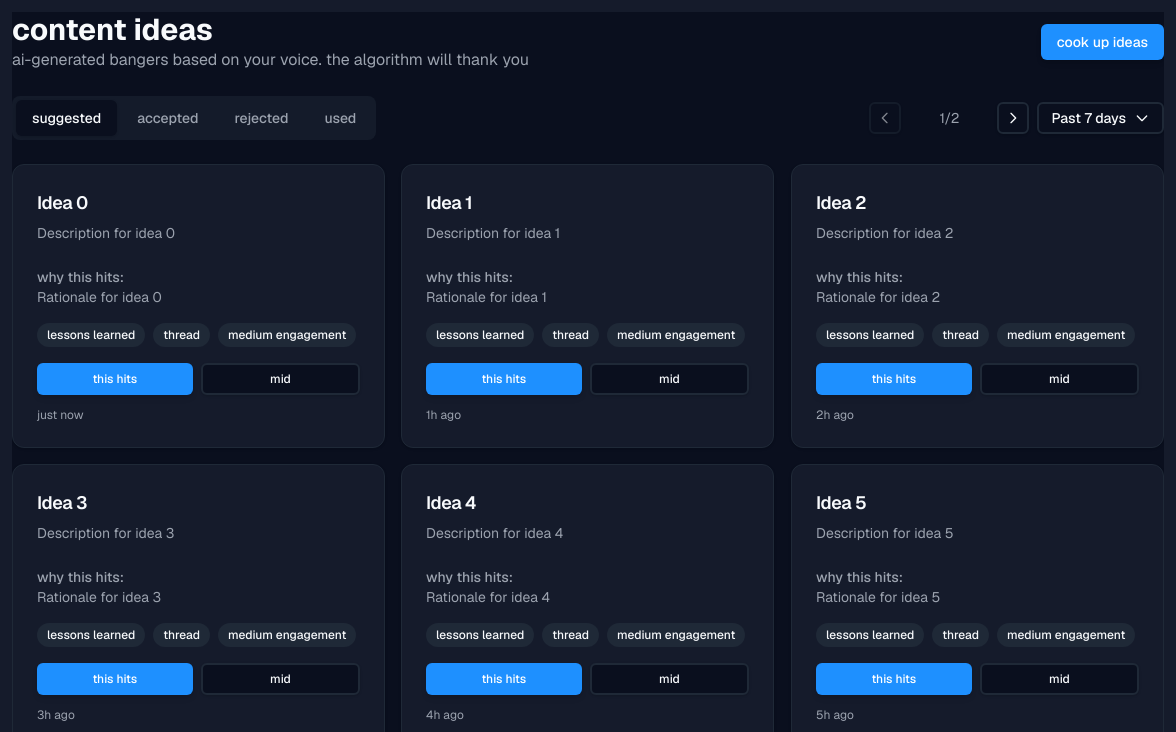
Test case: Ideas Dashboard - Pagination Integration › Pagination Reset on Status Change › should reset to page 1 when changing status tab
This screenshot has width=1176, height=732.
# Navigate to page 2 in "suggested" status
Click the button named "Next page" at [1013, 118], box [997, 102, 1029, 134]
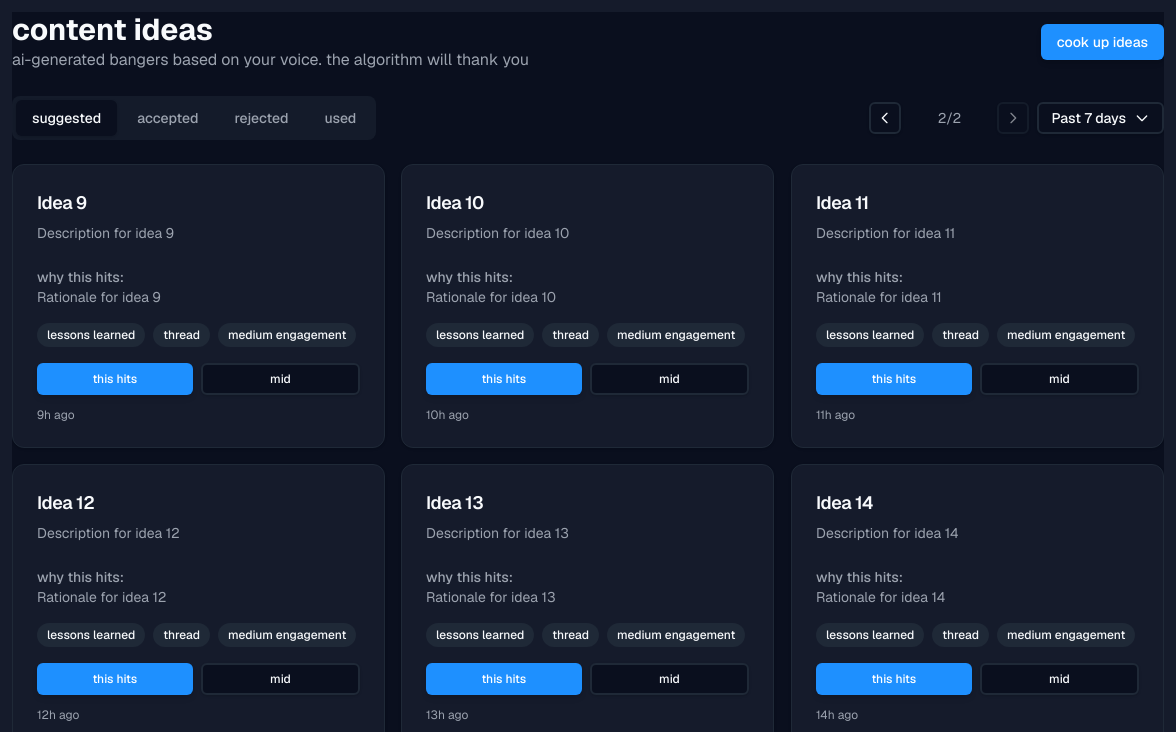
expect the text "2/2" is shown: met, box [938, 109, 961, 127]
# Switch to "accepted" status
Click the button "accepted" at [168, 118], box [121, 100, 214, 136]
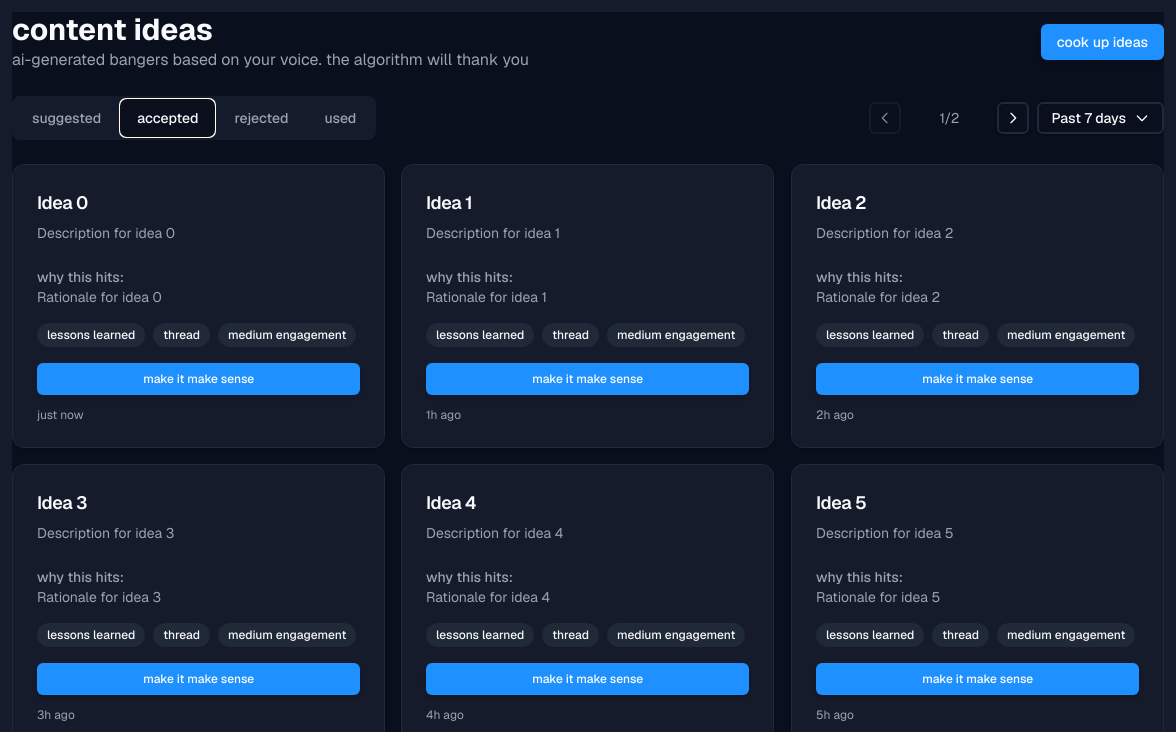
expect the text "1/2" is shown: met, box [939, 109, 959, 127]
